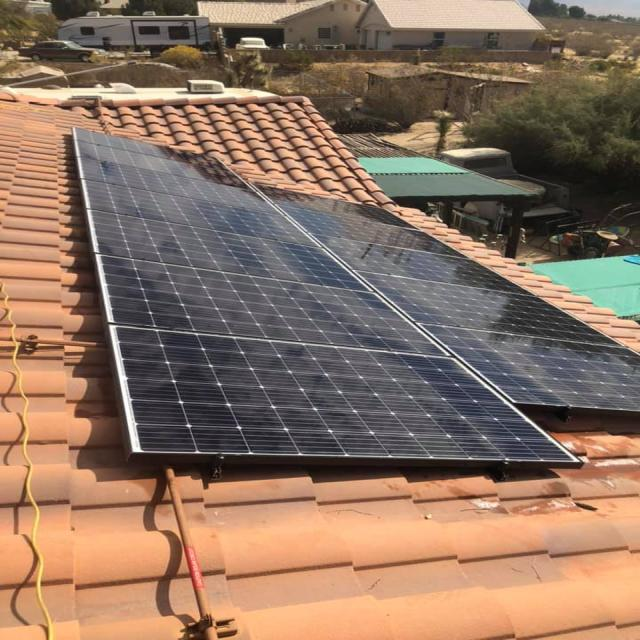dust-solar-panel: (73, 129, 637, 466)
